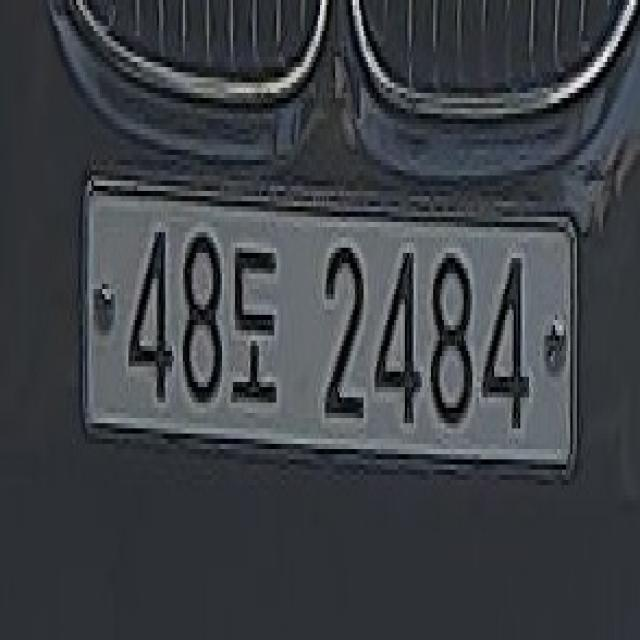2: (318, 230, 370, 440)
4: (121, 215, 177, 424), (480, 242, 532, 448), (373, 232, 423, 442)
8: (426, 235, 476, 441), (180, 222, 226, 416)
do: (230, 235, 286, 428)
license_plate: (74, 154, 580, 498)
